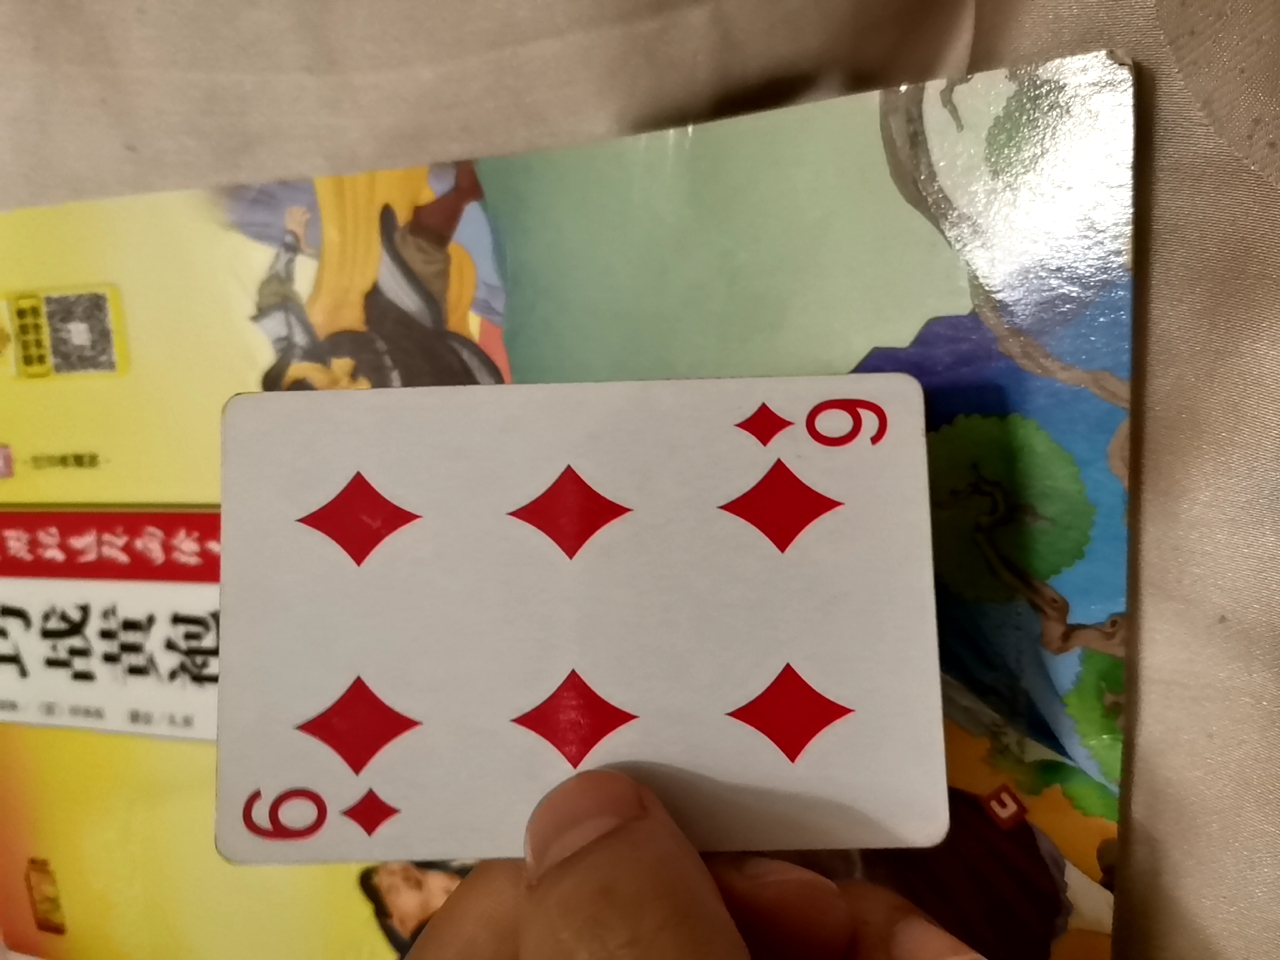fk 6: (203, 358, 948, 864)
